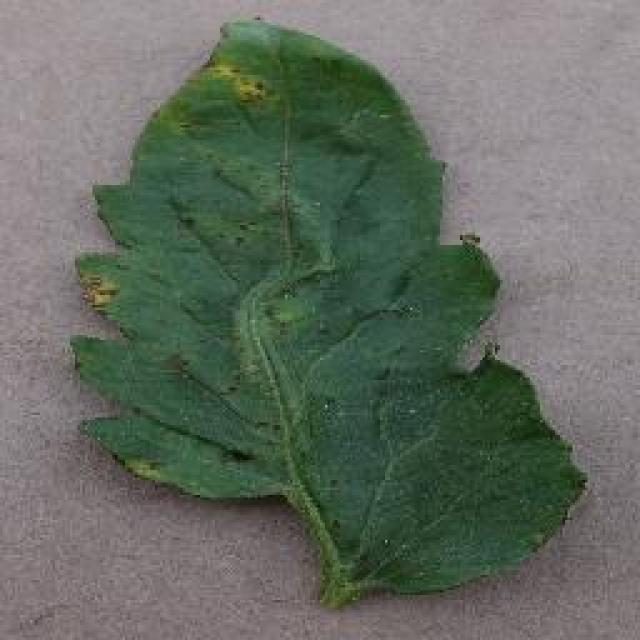Tomato bacterial spot leaf: (63, 13, 590, 600)
